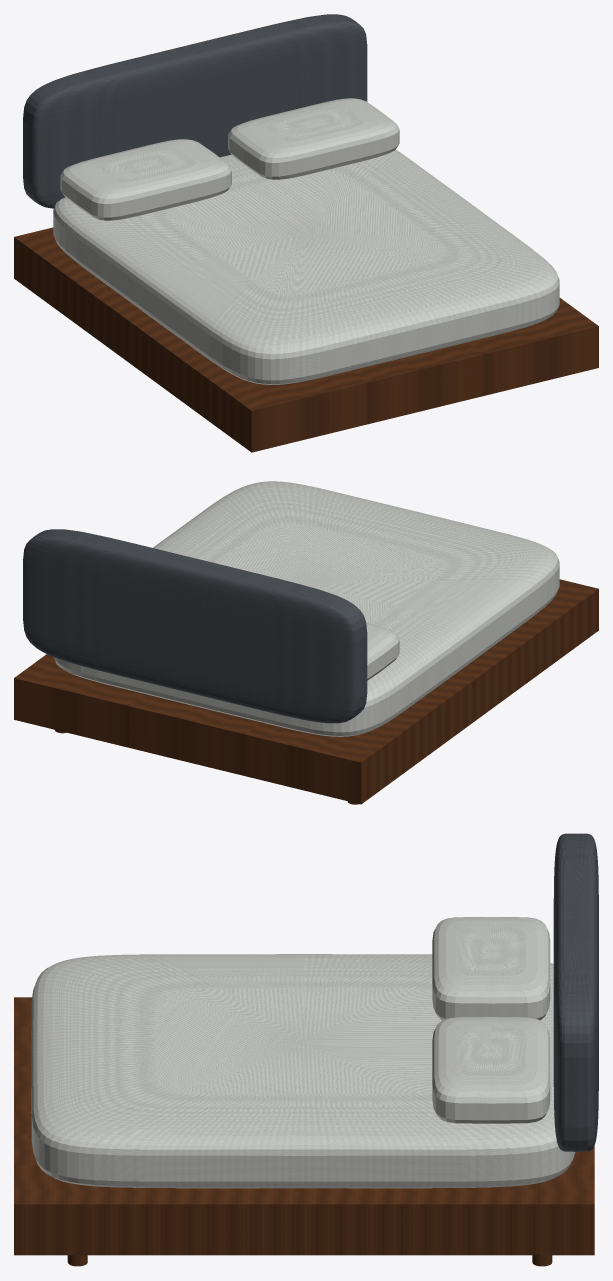
File: bed-160.glb
3 renders of one model, top to bottom at view 1: azimuth 30°, elevation 25°; view 2: azimuth 150°, elevation 25°; view 3: azimuth 270°, elevation 25°, orthographic. The views are drawn at different scales.
Visible parts, largest first — view 1: mattress, frame, headboard, pillow_1, pillow_2; view 2: mattress, headboard, frame, pillow_1; view 3: mattress, frame, headboard, pillow_2, pillow_1.
Boxes of the visible parts, x1=… form: mattress: x1=53, y1=149, x2=559, y2=384; frame: x1=14, y1=227, x2=598, y2=452; headboard: x1=23, y1=14, x2=367, y2=208; pillow_1: x1=60, y1=139, x2=231, y2=220; pillow_2: x1=228, y1=98, x2=399, y2=179; mattress: x1=53, y1=481, x2=559, y2=736; headboard: x1=23, y1=529, x2=367, y2=723; frame: x1=14, y1=579, x2=598, y2=804; pillow_1: x1=366, y1=622, x2=399, y2=680; mattress: x1=31, y1=954, x2=575, y2=1188; frame: x1=14, y1=997, x2=594, y2=1255; headboard: x1=553, y1=833, x2=598, y2=1151; pillow_2: x1=432, y1=1017, x2=550, y2=1123; pillow_1: x1=432, y1=917, x2=550, y2=1020.
Bounding box in the file's own units: 1.8 × 1.05 × 2.15.
Materials: 3 (3 with a texture image).
